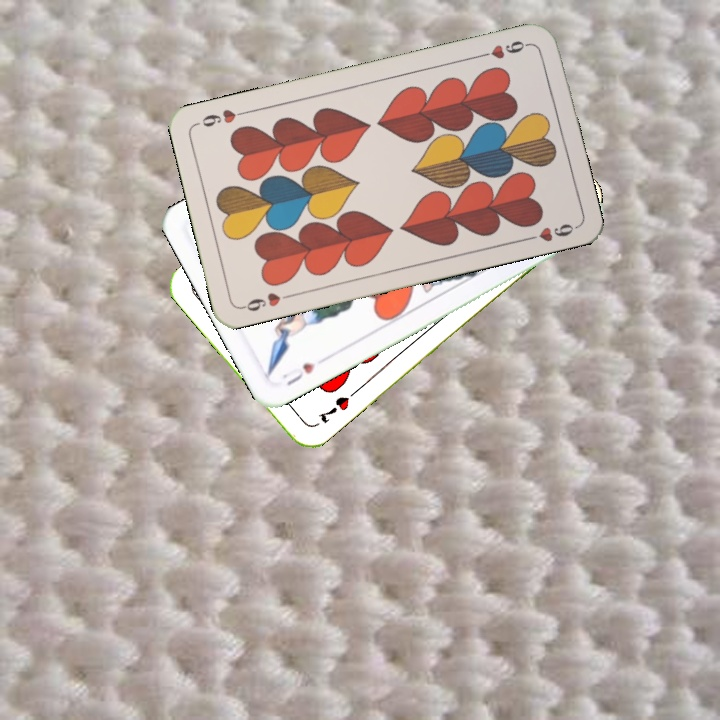H7: (315, 392, 352, 426)
H9: (237, 288, 296, 314), (475, 36, 533, 62)
HU: (278, 358, 318, 388)
